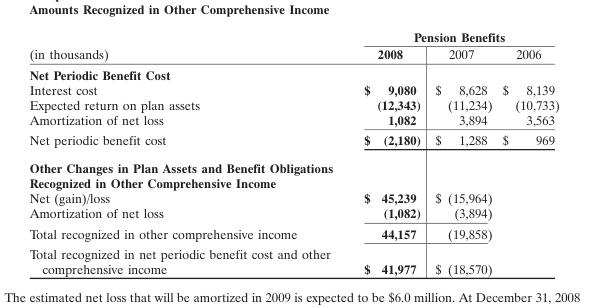table: (28, 28, 558, 276)
table column: (28, 28, 346, 276), (346, 28, 427, 276), (427, 28, 496, 276), (496, 28, 558, 276)
table column header: (28, 28, 558, 64)
table projected row header: (28, 153, 558, 190), (28, 64, 558, 81)
table row: (28, 153, 558, 190), (28, 243, 558, 276), (28, 129, 558, 153), (28, 44, 558, 64), (28, 223, 558, 243), (28, 111, 558, 129), (28, 205, 558, 223), (28, 64, 558, 81), (28, 28, 558, 44), (28, 81, 558, 96), (28, 96, 558, 111), (28, 190, 558, 205)
table spanning cell: (28, 28, 346, 64), (346, 28, 558, 44)
